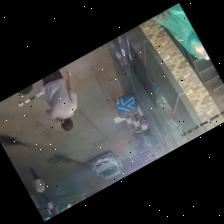person: (41, 70, 76, 130), (29, 167, 44, 195), (18, 85, 32, 94), (44, 196, 52, 210)
